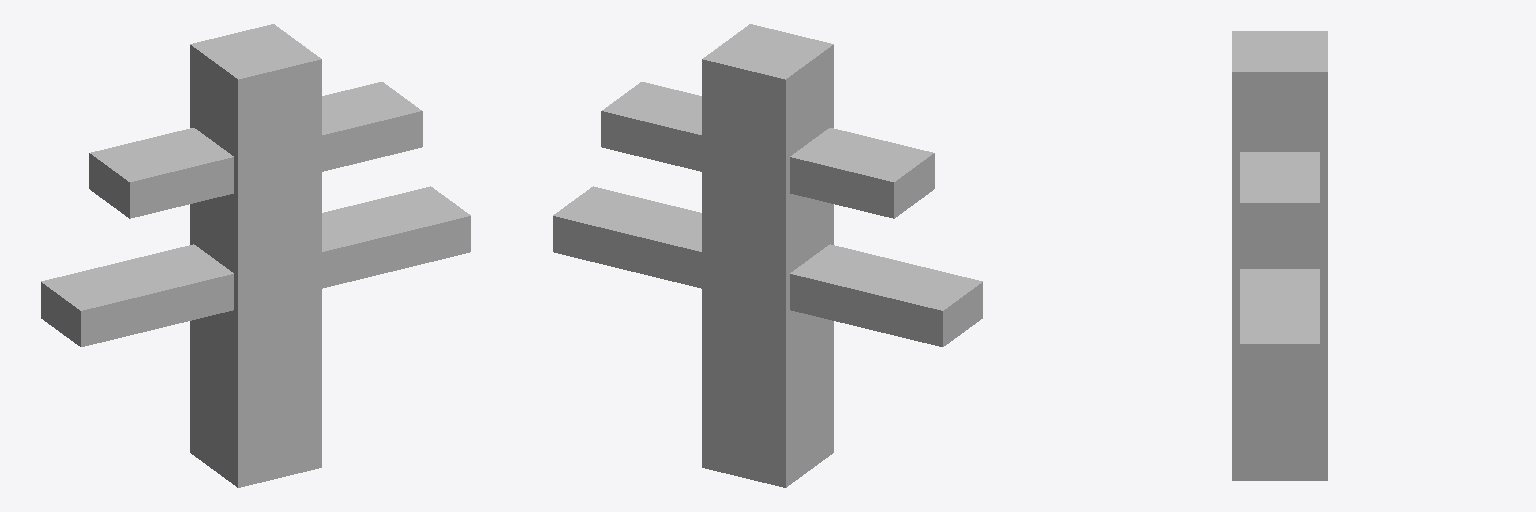
The model's file is thin_mast.obj.
3 renders of one model, left to right at view 1: azimuth 30°, elevation 25°; view 2: azimuth 150°, elevation 25°; view 3: azimuth 270°, elevation 25°, orthographic.
Parts seen in each view (by area): view 1: cube, cube1, cube2; view 2: cube, cube1, cube2; view 3: cube, cube1, cube2.
Part boxes in pixels (x1,y1,x2,y2): cube: (190,24,321,487); cube1: (41,186,470,346); cube2: (89,82,422,218); cube: (702,24,833,487); cube1: (553,186,982,346); cube2: (601,82,934,218); cube: (1232,31,1327,480); cube1: (1240,269,1319,379); cube2: (1240,152,1319,239).
Size of the model in its own units: 3.5 by 3.5 by 0.75.